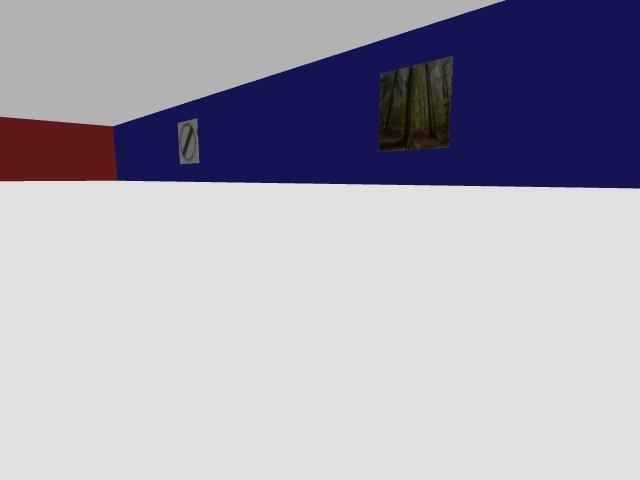fastsign: (178, 120, 197, 163)
tree: (400, 66, 415, 149), (385, 70, 398, 132), (424, 64, 434, 137), (439, 59, 448, 99)
